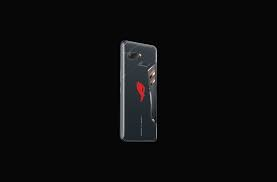asus: (115, 36, 160, 145)
